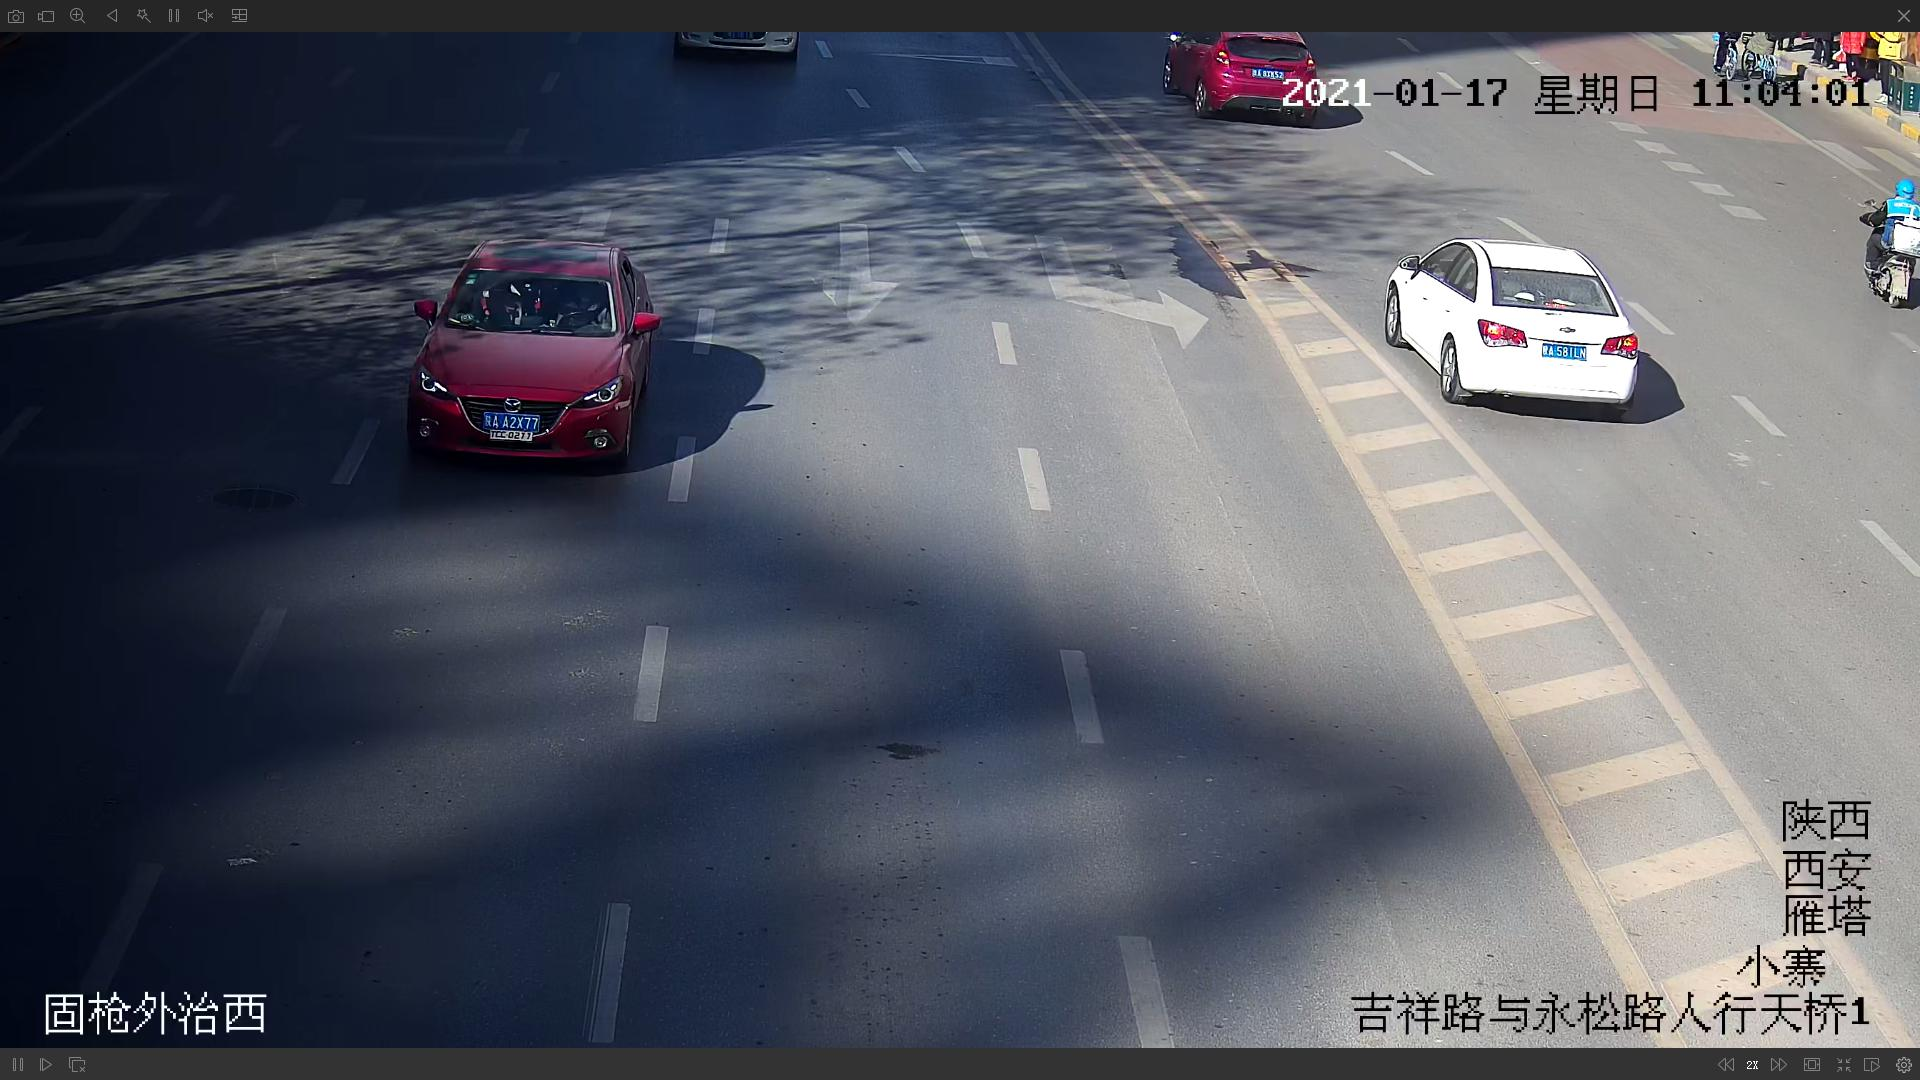red: (410, 237, 655, 468)
